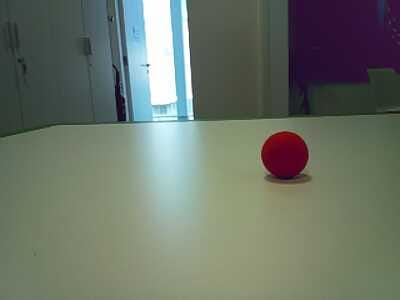bola_cerca: (260, 131, 309, 178)
